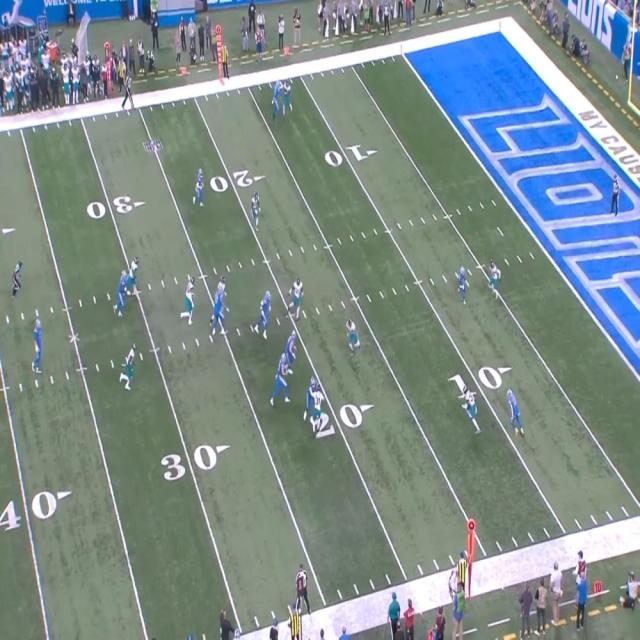db: (462, 386, 478, 434), (282, 80, 294, 114), (489, 260, 499, 297), (251, 193, 260, 227)
lb: (290, 278, 302, 318), (346, 318, 358, 354)
qb: (34, 316, 43, 370)
skill: (506, 387, 522, 430), (277, 354, 286, 399), (272, 80, 282, 116), (194, 173, 203, 206), (459, 268, 468, 301)
